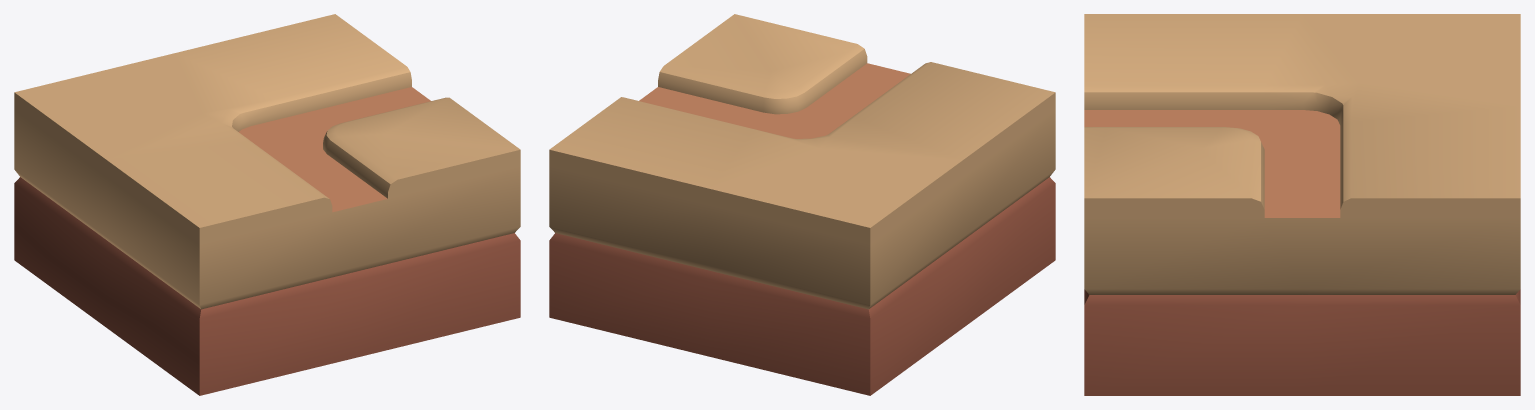
Rendered from square_sand_roadC_detail.glb.
3 renders of one model, left to right at view 1: azimuth 30°, elevation 25°; view 2: azimuth 150°, elevation 25°; view 3: azimuth 270°, elevation 25°, orthographic. The views are drawn at different scales.
Visible parts, largest first — view 1: square_sand_roadC_detail; view 2: square_sand_roadC_detail; view 3: square_sand_roadC_detail.
Boxes of the visible parts, bbox=[...] form: square_sand_roadC_detail: bbox=[14, 14, 520, 395]; square_sand_roadC_detail: bbox=[549, 14, 1055, 395]; square_sand_roadC_detail: bbox=[1084, 14, 1520, 395].
Bounding box in the file's own units: 2 × 1 × 2.
